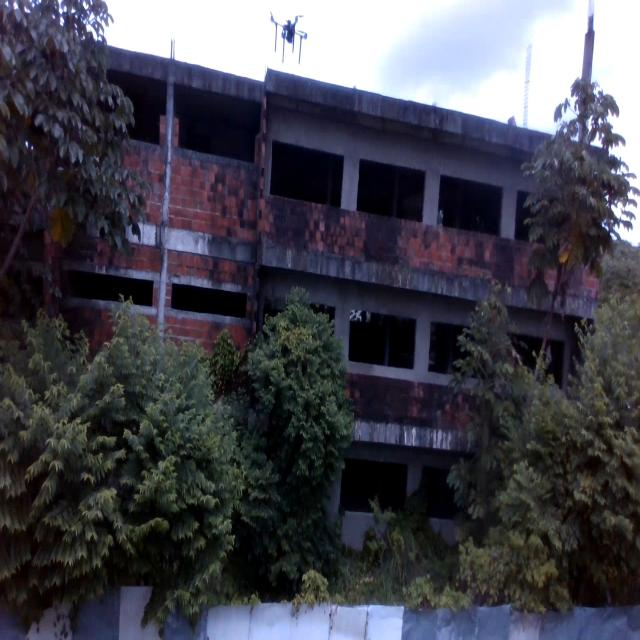-uav-: (264, 3, 314, 73)
